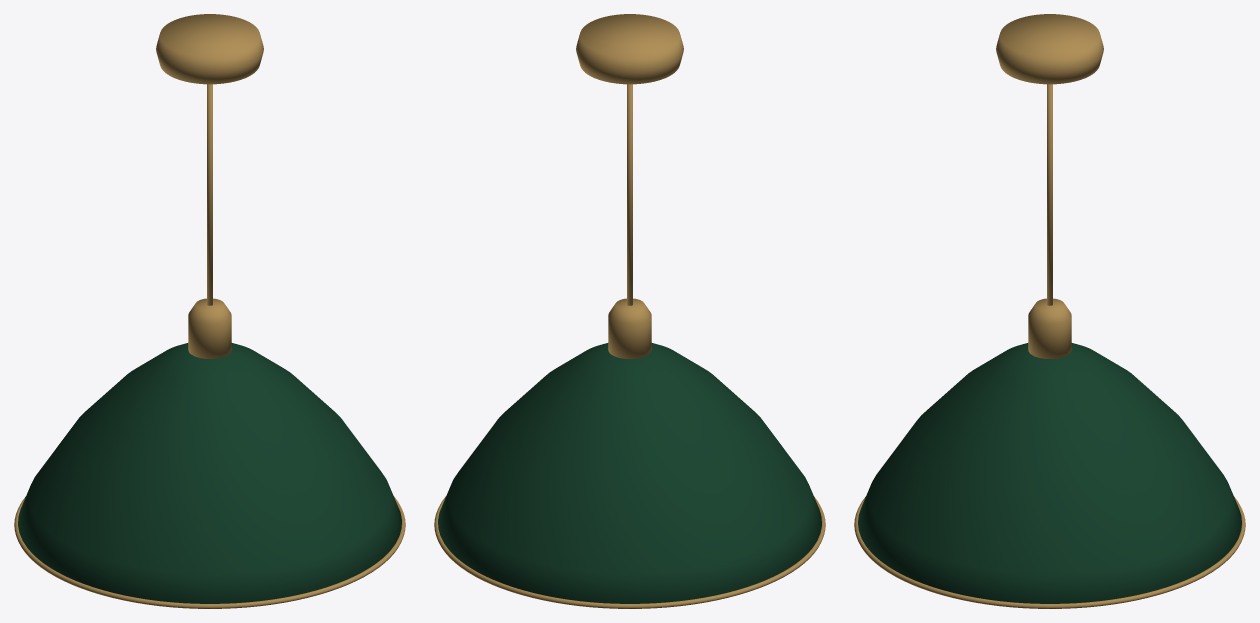
Rendered from poker-pendant.glb.
3 renders of one model, left to right at view 1: azimuth 30°, elevation 25°; view 2: azimuth 150°, elevation 25°; view 3: azimuth 270°, elevation 25°, orthographic.
Visible parts, largest first — view 1: poker-pendant - Poker bottle green enamel, poker-pendant - Poker aged satin brass; view 2: poker-pendant - Poker bottle green enamel, poker-pendant - Poker aged satin brass; view 3: poker-pendant - Poker bottle green enamel, poker-pendant - Poker aged satin brass.
Part boxes in pixels (bbox=[...]): poker-pendant - Poker bottle green enamel: bbox=[18, 343, 401, 603]; poker-pendant - Poker aged satin brass: bbox=[14, 14, 405, 608]; poker-pendant - Poker bottle green enamel: bbox=[438, 343, 821, 603]; poker-pendant - Poker aged satin brass: bbox=[434, 14, 825, 608]; poker-pendant - Poker bottle green enamel: bbox=[858, 343, 1241, 603]; poker-pendant - Poker aged satin brass: bbox=[854, 14, 1245, 608].
Size of the model in its own units: 0.507 by 0.704 by 0.507.
